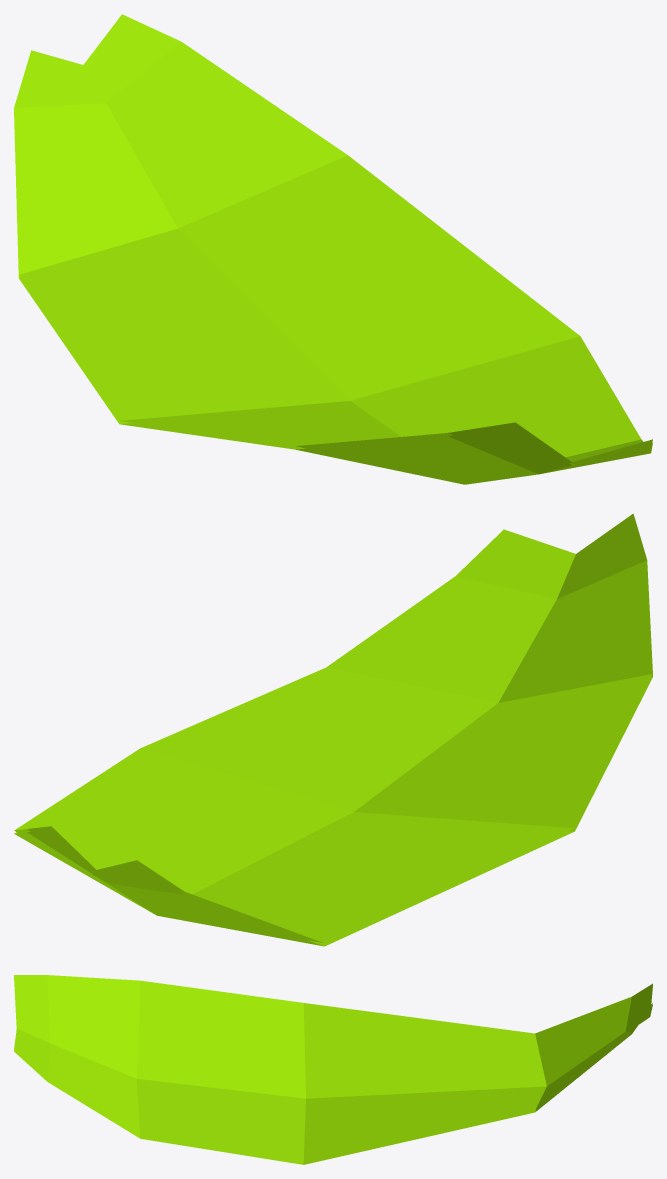
The model's file is Leaf.001.fbx.
3 renders of one model, top to bottom at view 1: azimuth 30°, elevation 25°; view 2: azimuth 150°, elevation 25°; view 3: azimuth 270°, elevation 25°, orthographic. The views are drawn at different scales.
Parts seen in each view (by area): view 1: Leaf; view 2: Leaf; view 3: Leaf.
Boxes of the visible parts, box(x1,y1,x2,y2) form: Leaf: box(14, 14, 652, 484); Leaf: box(14, 513, 652, 946); Leaf: box(14, 975, 652, 1164).
Size of the model in its own units: 1.09 by 0.4015 by 2.07.
